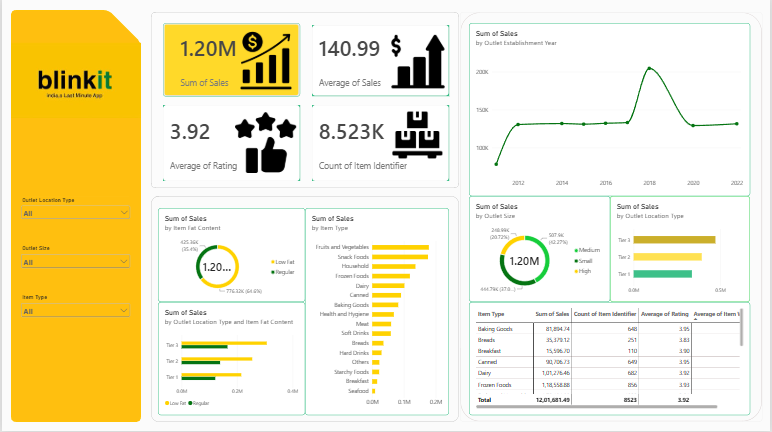

This screenshot's page, from the dashboard's own definition file:
{"tool":"powerbi","page":{"name":"Page 1","canvas":[1920,1080],"ordinal":0},"visuals":[{"type":"shape","box":[22.5,27.5,325,1030],"z":5},{"type":"image","box":[22.5,47.5,325,312.5],"z":6},{"type":"slicer","fields":{"Values":["BlinkIT Grocery Data.Outlet Location Type"]},"box":[42.5,492.5,282.5,100],"z":7},{"type":"slicer","fields":{"Values":["BlinkIT Grocery Data.Outlet Size"]},"box":[42.5,615,282.5,87.5],"z":8},{"type":"slicer","fields":{"Values":["BlinkIT Grocery Data.Item Type"]},"box":[42.5,737.5,282.5,87.5],"z":9},{"type":"cardVisual","fields":{"Data":["Sum(BlinkIT Grocery Data.Sales)"]},"box":[402.5,60,342.5,184],"z":10},{"type":"cardVisual","fields":{"Data":["Avg(BlinkIT Grocery Data.Sales)"]},"box":[775,65,342.5,177.5],"z":11},{"type":"cardVisual","fields":{"Data":["Avg(BlinkIT Grocery Data.Rating)"]},"box":[402.5,265,342.5,190],"z":12},{"type":"cardVisual","fields":{"Data":["CountNonNull(BlinkIT Grocery Data.Item Identifier)"]},"box":[775,265,342.5,190],"z":13},{"type":"shape","box":[372.5,32.5,770,440],"z":14},{"type":"donutChart","fields":{"Category":["BlinkIT Grocery Data.Item Fat Content"],"Y":["Sum(BlinkIT Grocery Data.Sales)"]},"box":[390,522.5,367.5,235],"z":15},{"type":"clusteredBarChart","fields":{"Category":["BlinkIT Grocery Data.Outlet Location Type"],"Series":["BlinkIT Grocery Data.Item Fat Content"],"Y":["Sum(BlinkIT Grocery Data.Sales)"]},"box":[390,757.5,367.5,282.5],"z":18},{"type":"clusteredBarChart","fields":{"Category":["BlinkIT Grocery Data.Item Type"],"Y":["Sum(BlinkIT Grocery Data.Sales)"]},"box":[757.5,522.5,360,517.5],"z":19},{"type":"image","box":[575,80,170,147.5],"z":20},{"type":"image","box":[960,85,160,142.5],"z":21},{"type":"image","box":[582.5,280,152.5,157.5],"z":22},{"type":"image","box":[965,277.5,147.5,125],"z":23},{"type":"shape","box":[372.5,492.5,770,565],"z":24},{"type":"lineChart","fields":{"Category":["BlinkIT Grocery Data.Outlet Establishment Year"],"Y":["Sum(BlinkIT Grocery Data.Sales)"]},"box":[1167.5,60,702.5,432.5],"z":25},{"type":"donutChart","fields":{"Category":["BlinkIT Grocery Data.Outlet Size"],"Y":["Sum(BlinkIT Grocery Data.Sales)"]},"box":[1167.5,492.5,352.5,265],"z":26},{"type":"clusteredBarChart","fields":{"Category":["BlinkIT Grocery Data.Outlet Location Type"],"Y":["Sum(BlinkIT Grocery Data.Sales)"]},"box":[1521,493,350,265],"z":27},{"type":"pivotTable","fields":{"Rows":["BlinkIT Grocery Data.Item Type"],"Values":["Sum(BlinkIT Grocery Data.Sales)","CountNonNull(BlinkIT Grocery Data.Item Identifier)","Avg(BlinkIT Grocery Data.Rating)","Avg(Table1.Item Weight)"]},"box":[1167.5,757.5,702.5,282.5],"z":28},{"type":"shape","box":[1144.4,33.3,755.6,1024.4],"z":29}]}

Visuals, with their boxes in screenshot pixels (x1, y1, x2, y2), scaled from the page's 1920x1080 canvas onto the 772x432 screenshot:
shape: {"x1": 9, "y1": 11, "x2": 140, "y2": 423}
image: {"x1": 9, "y1": 19, "x2": 140, "y2": 144}
slicer - BlinkIT Grocery Data.Outlet Location Type: {"x1": 17, "y1": 197, "x2": 131, "y2": 237}
slicer - BlinkIT Grocery Data.Outlet Size: {"x1": 17, "y1": 246, "x2": 131, "y2": 281}
slicer - BlinkIT Grocery Data.Item Type: {"x1": 17, "y1": 295, "x2": 131, "y2": 330}
cardVisual - Sum(BlinkIT Grocery Data.Sales): {"x1": 162, "y1": 24, "x2": 300, "y2": 98}
cardVisual - Avg(BlinkIT Grocery Data.Sales): {"x1": 312, "y1": 26, "x2": 449, "y2": 97}
cardVisual - Avg(BlinkIT Grocery Data.Rating): {"x1": 162, "y1": 106, "x2": 300, "y2": 182}
cardVisual - CountNonNull(BlinkIT Grocery Data.Item Identifier): {"x1": 312, "y1": 106, "x2": 449, "y2": 182}
shape: {"x1": 150, "y1": 13, "x2": 459, "y2": 189}
donutChart - BlinkIT Grocery Data.Item Fat Content x Sum(BlinkIT Grocery Data.Sales): {"x1": 157, "y1": 209, "x2": 305, "y2": 303}
clusteredBarChart - BlinkIT Grocery Data.Outlet Location Type x BlinkIT Grocery Data.Item Fat Content: {"x1": 157, "y1": 303, "x2": 305, "y2": 416}
clusteredBarChart - BlinkIT Grocery Data.Item Type x Sum(BlinkIT Grocery Data.Sales): {"x1": 305, "y1": 209, "x2": 449, "y2": 416}
image: {"x1": 231, "y1": 32, "x2": 300, "y2": 91}
image: {"x1": 386, "y1": 34, "x2": 450, "y2": 91}
image: {"x1": 234, "y1": 112, "x2": 296, "y2": 175}
image: {"x1": 388, "y1": 111, "x2": 447, "y2": 161}
shape: {"x1": 150, "y1": 197, "x2": 459, "y2": 423}
lineChart - BlinkIT Grocery Data.Outlet Establishment Year x Sum(BlinkIT Grocery Data.Sales): {"x1": 469, "y1": 24, "x2": 752, "y2": 197}
donutChart - BlinkIT Grocery Data.Outlet Size x Sum(BlinkIT Grocery Data.Sales): {"x1": 469, "y1": 197, "x2": 611, "y2": 303}
clusteredBarChart - BlinkIT Grocery Data.Outlet Location Type x Sum(BlinkIT Grocery Data.Sales): {"x1": 612, "y1": 197, "x2": 752, "y2": 303}
pivotTable - BlinkIT Grocery Data.Item Type x Sum(BlinkIT Grocery Data.Sales): {"x1": 469, "y1": 303, "x2": 752, "y2": 416}
shape: {"x1": 460, "y1": 13, "x2": 764, "y2": 423}
